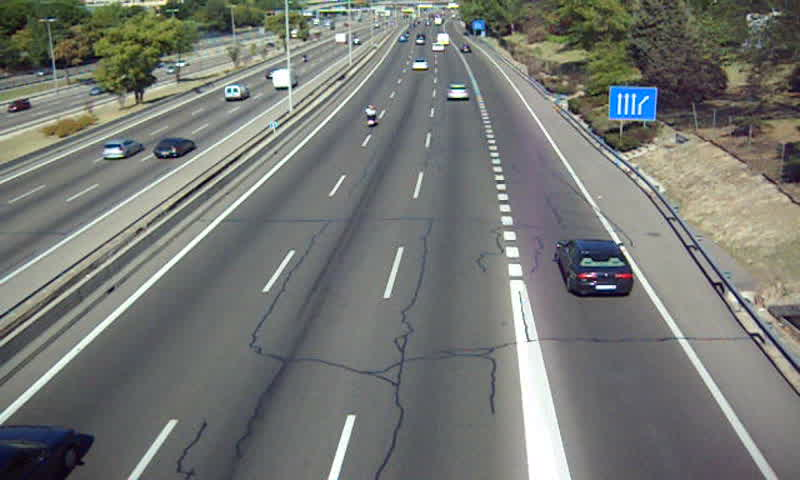car: (557, 240, 633, 297), (446, 83, 470, 101), (410, 58, 430, 71)
motorcycle: (362, 103, 379, 128)
